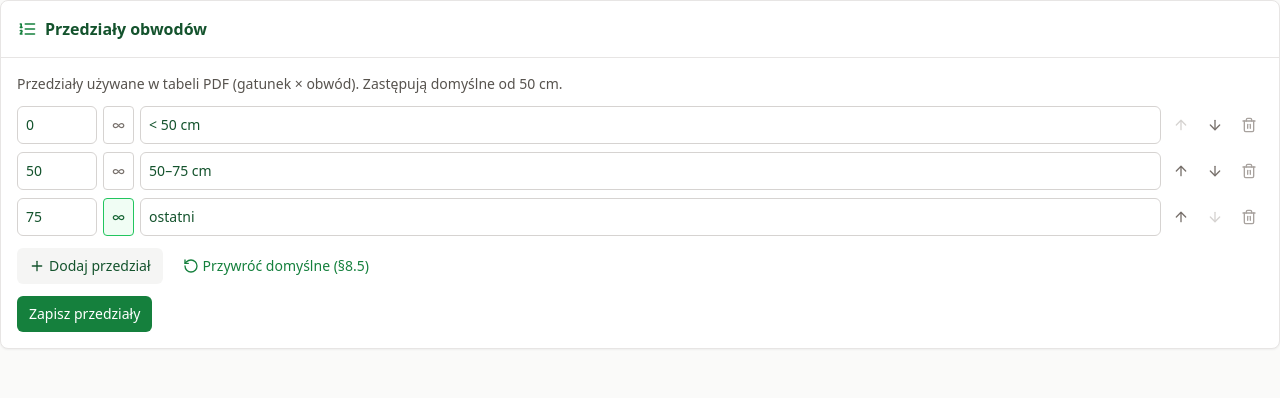
Test case: RangesEditor › should reject when from >= to
Type "60" into the number field named "Przedział 1 od". click: (57, 125)
box: [17, 106, 97, 144]
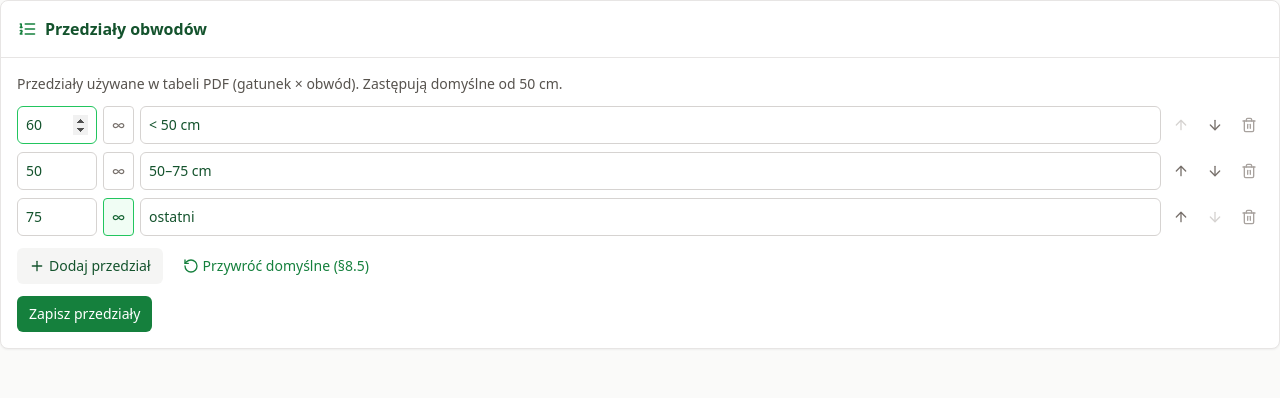
Click the button with test id "ranges-save". click: (85, 314)
box: [17, 296, 152, 332]
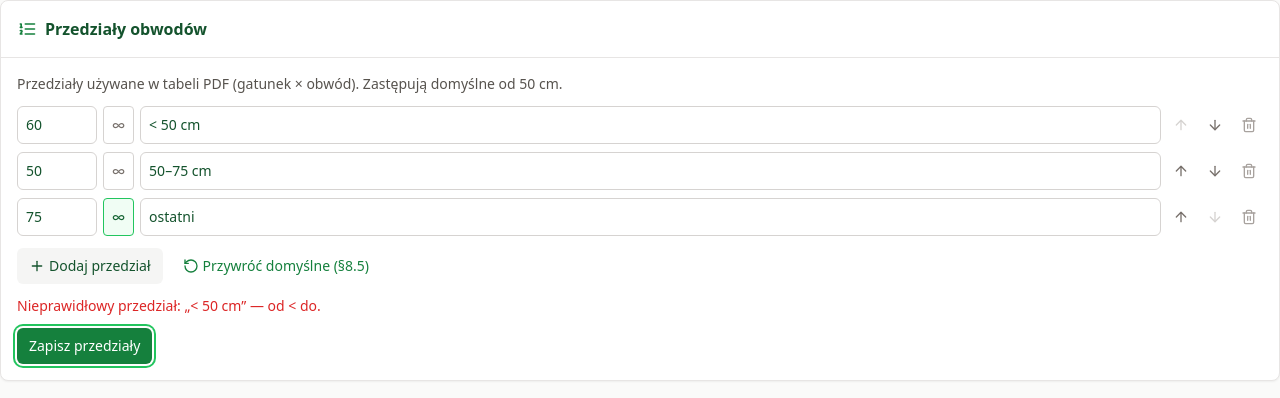
expect the message with test id "ranges-error" shows "od < do": met, box [17, 296, 321, 315]
